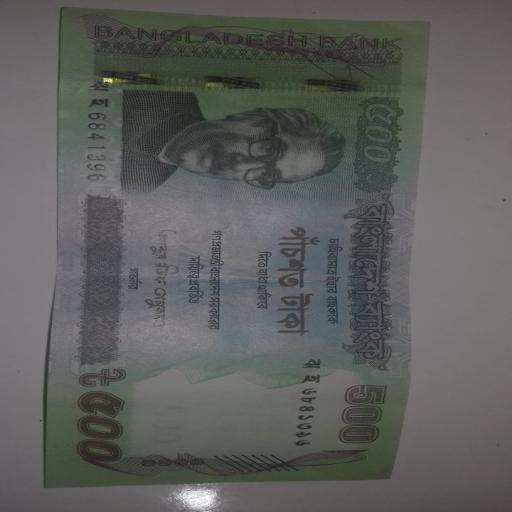500taka: (45, 8, 428, 486)
